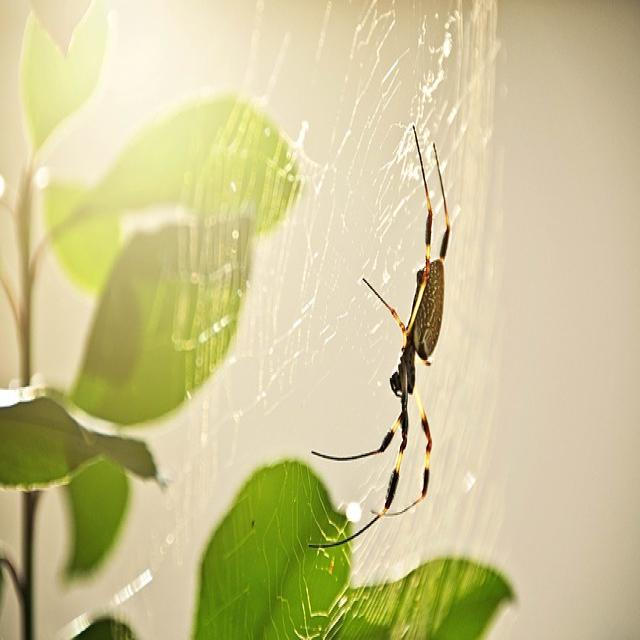spyder: (312, 125, 450, 514), (410, 408, 431, 514)
